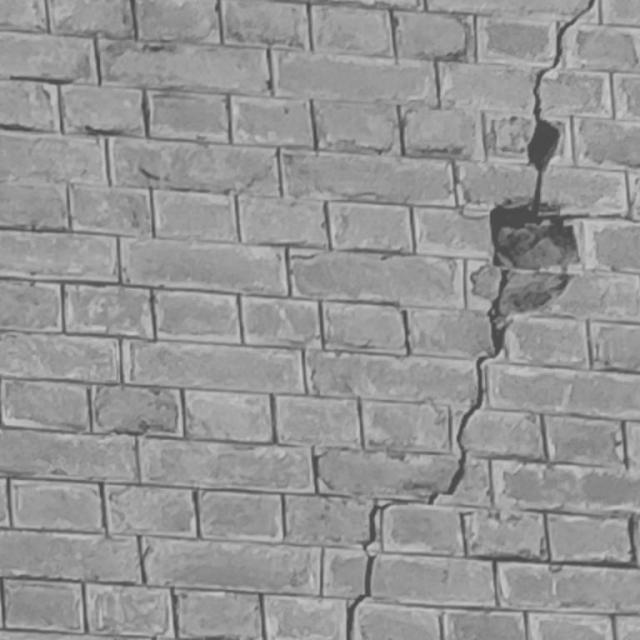crack: (344, 1, 594, 640)
